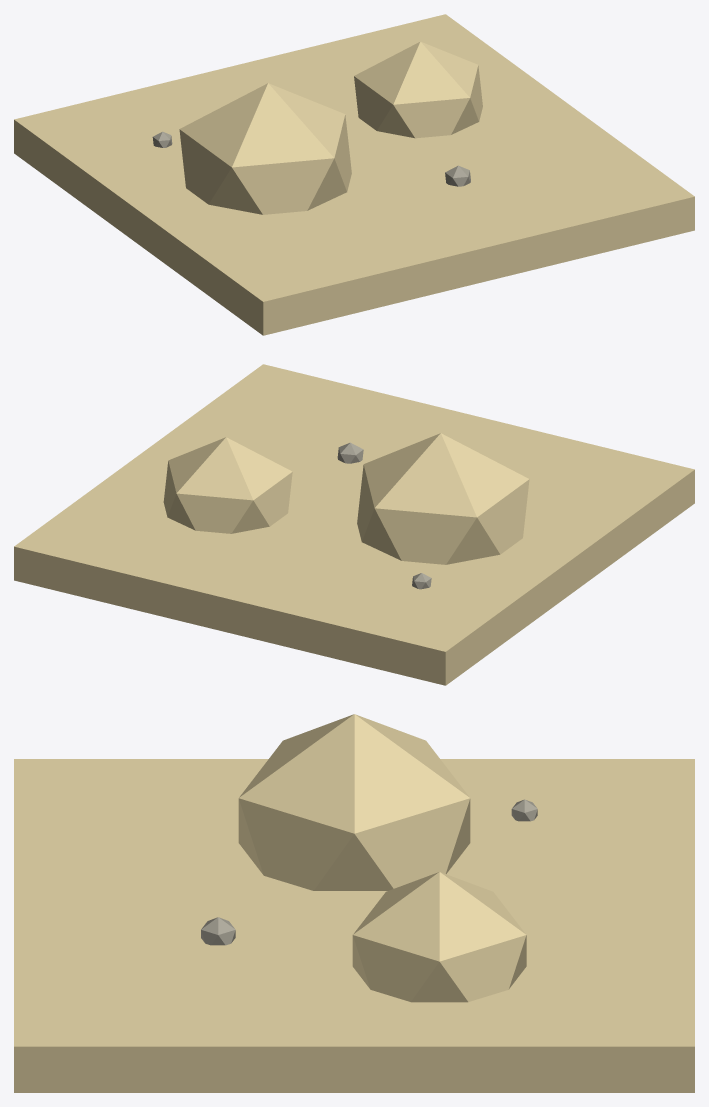
The model's file is landscape.sand-dune.glb.
3 views of the same model, one above another, from view 1: azimuth 30°, elevation 25°; view 2: azimuth 150°, elevation 25°; view 3: azimuth 270°, elevation 25° (orthographic). The views are drawn at different scales.
Visible parts, largest first — view 1: landscape.sand-dune; view 2: landscape.sand-dune; view 3: landscape.sand-dune.
Boxes of the visible parts, x1,y1,x2,y2 form: landscape.sand-dune: [14, 14, 694, 335]; landscape.sand-dune: [14, 364, 694, 685]; landscape.sand-dune: [14, 714, 694, 1092].
Bounding box in the file's own units: 4 × 1.6 × 4.
